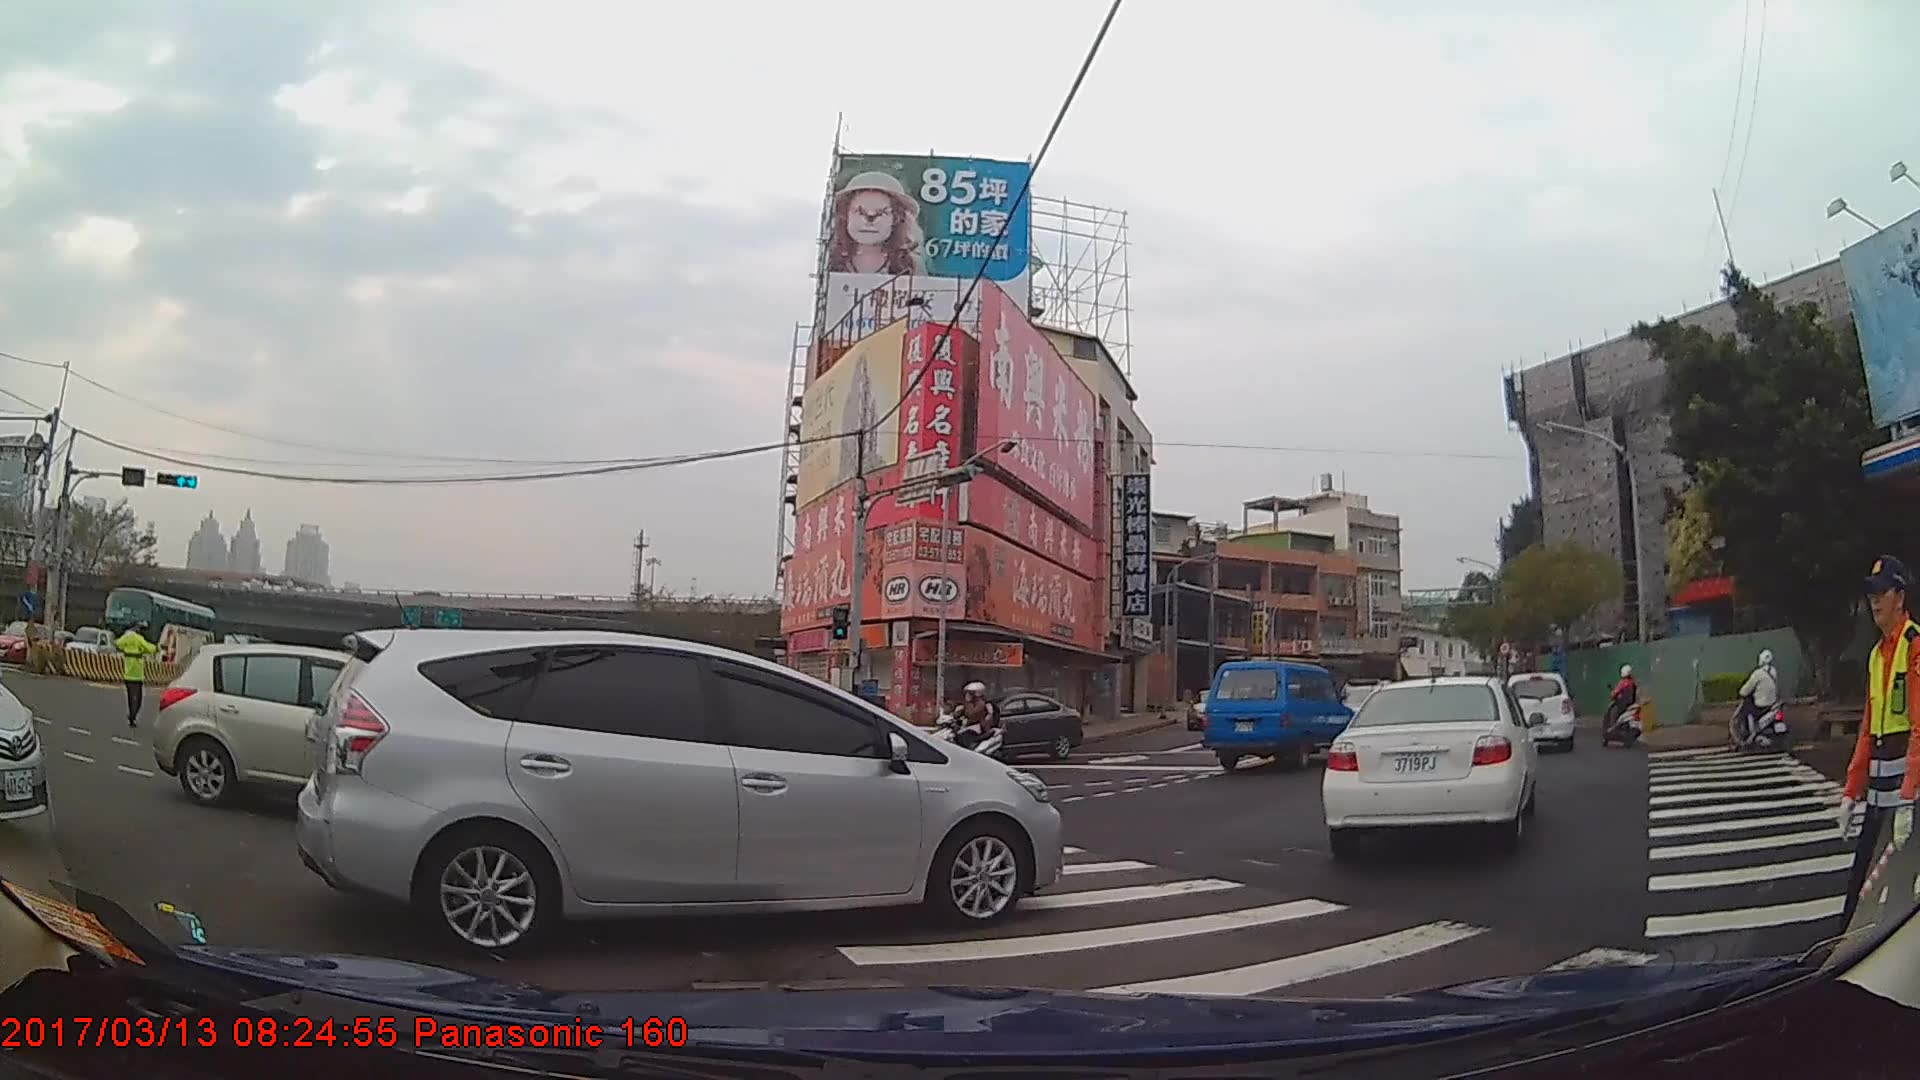pedestrian: (1826, 557, 1920, 995), (112, 618, 166, 728)
rider: (1726, 648, 1788, 754), (930, 688, 1009, 772), (1603, 665, 1646, 747)
vehicle: (293, 619, 1067, 949), (153, 638, 459, 811), (1318, 674, 1536, 851), (1196, 657, 1346, 770), (101, 583, 217, 672), (946, 691, 1083, 763), (1501, 669, 1576, 754), (0, 620, 62, 668), (63, 623, 115, 667)
